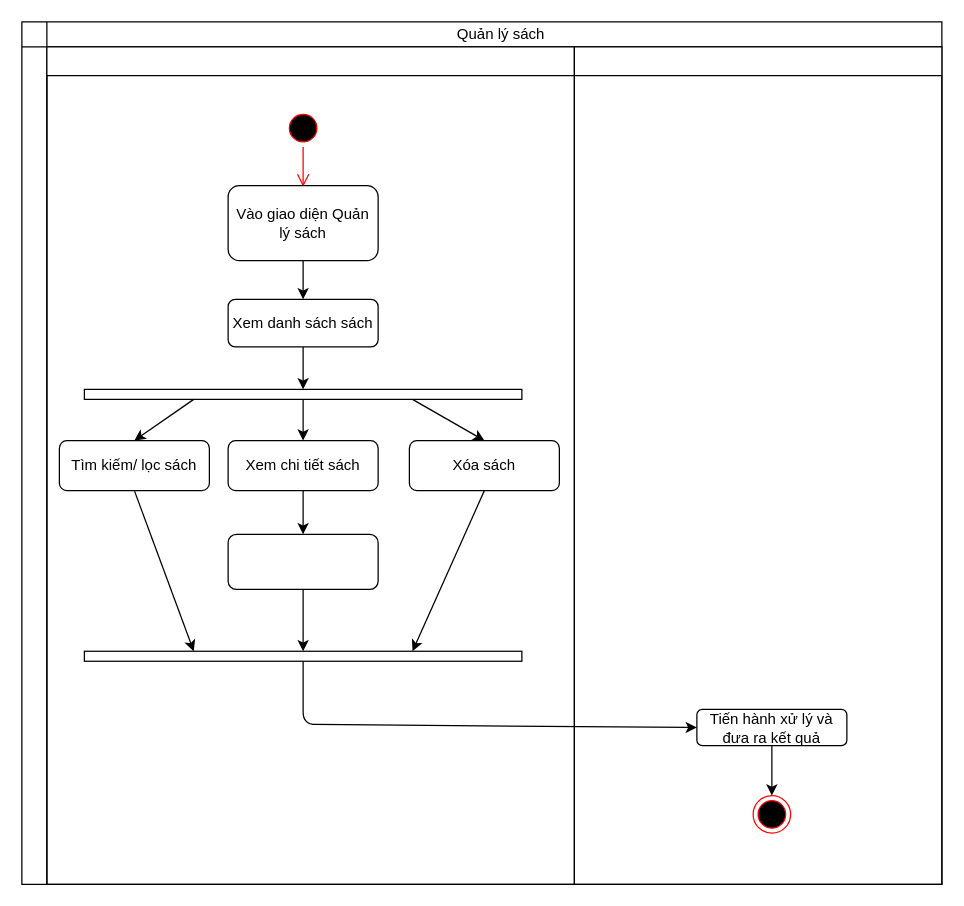
This 964x906 diagram has some shape labels left out. Here are the shapes that lost their labels. From the top down, the box of each, then its label:
(46, 46, 574, 884): Nhân viên
(573, 46, 942, 884): Hệ thống
(227, 533, 378, 589): Sửa thông tin sách
